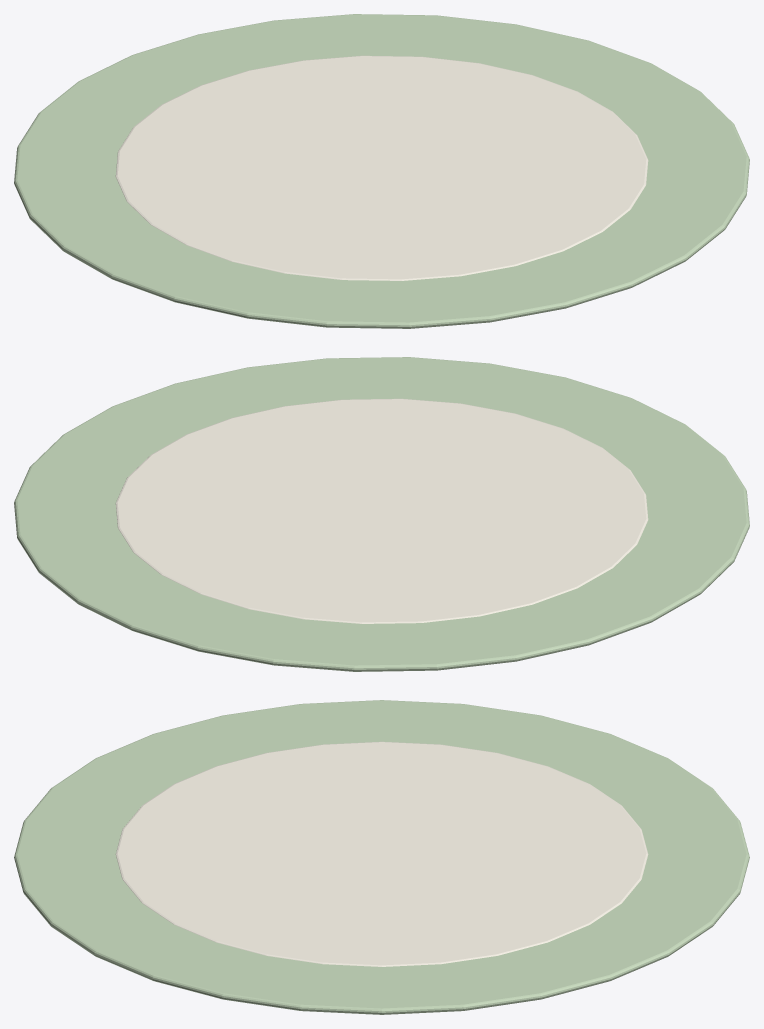
Rendered from RugRound.fbx.
3 views of the same model, one above another, from view 1: azimuth 30°, elevation 25°; view 2: azimuth 150°, elevation 25°; view 3: azimuth 270°, elevation 25° (orthographic).
Visible parts, largest first — view 1: RugRound; view 2: RugRound; view 3: RugRound.
Boxes of the visible parts, <box> form: RugRound: <box>14,14,749,328</box>; RugRound: <box>14,357,749,671</box>; RugRound: <box>14,700,749,1014</box>.
Size of the model in its own units: 2.2 by 0.0225 by 2.2.
